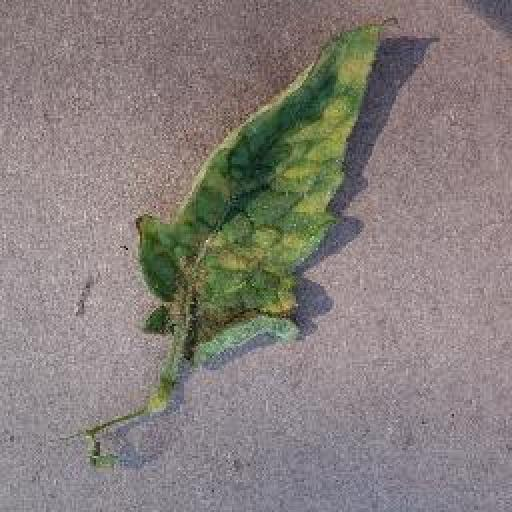Leaf Mold: (132, 19, 383, 356)
